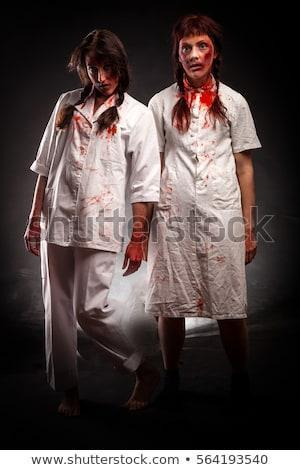Fire: (181, 34, 218, 124), (70, 107, 86, 135), (105, 123, 118, 137)
